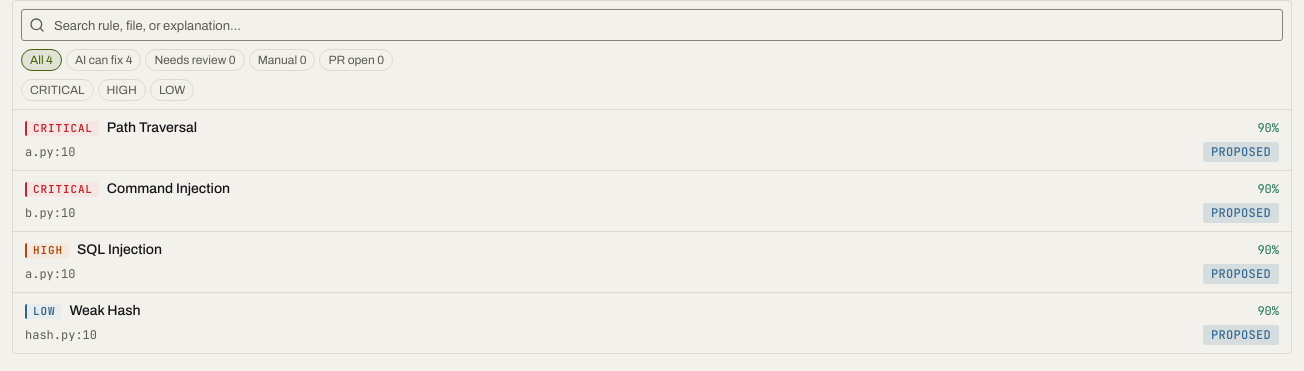
Scenario: FixProposalList › search that matches nothing shows an explicit empty state
This screenshot has width=1304, height=371.
Step 1. Type "zzzz" into the field named "Search fix proposals" → (652, 25), box [21, 9, 1283, 41]
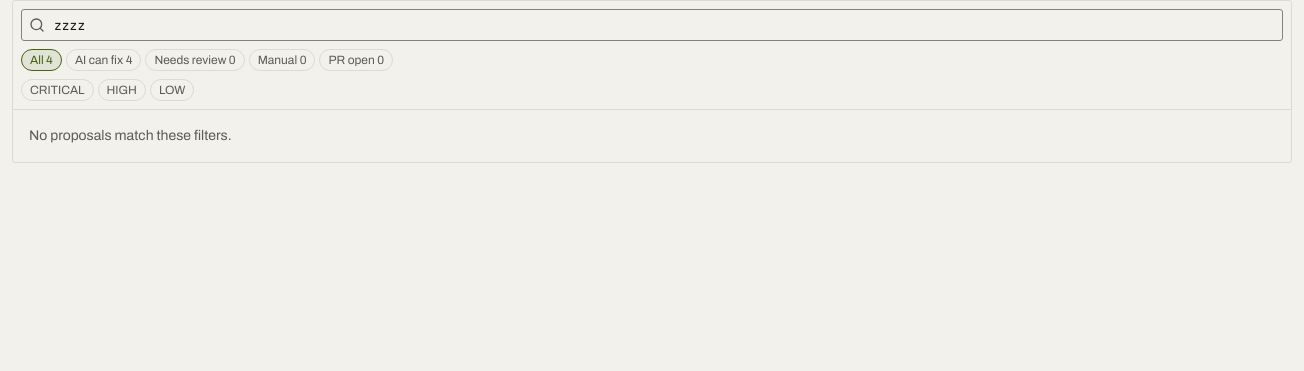
Check: the list item "No proposals match these filters." is shown, box [29, 128, 232, 143]
